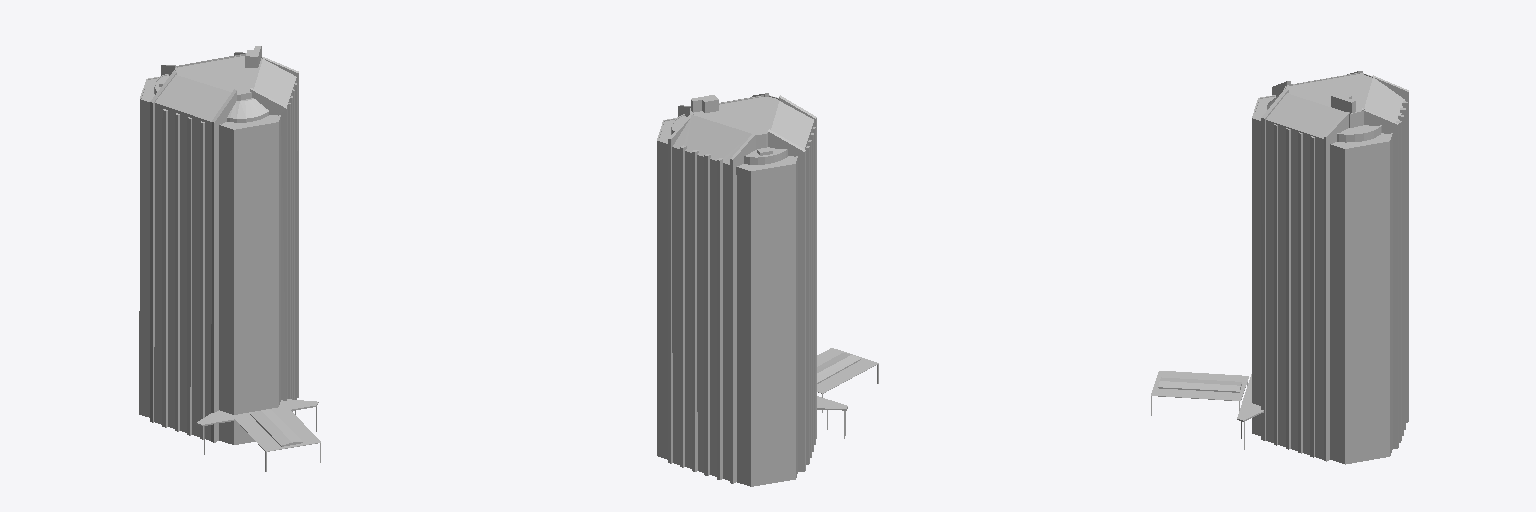
File: bill.obj
3 views of the same model, side by side, from view 1: azimuth 30°, elevation 25°; view 2: azimuth 150°, elevation 25°; view 3: azimuth 270°, elevation 25° (orthographic).
Visible parts, largest first — view 1: [number redacted]_bldg_6677; view 2: [number redacted]_bldg_6677; view 3: [number redacted]_bldg_6677.
Part boxes in pixels (x1,y1,x2,y2): [number redacted]_bldg_6677: (139,46,320,471); [number redacted]_bldg_6677: (657,93,878,486); [number redacted]_bldg_6677: (1151,71,1408,464).
Bounding box in the file's own units: 0.5107 × 1.17 × 0.7926.